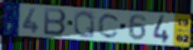4: (153, 14, 171, 45), (21, 7, 40, 35)
6: (127, 13, 148, 42)
B: (43, 7, 68, 37)
C: (97, 12, 122, 40)
Q: (73, 10, 96, 40)
